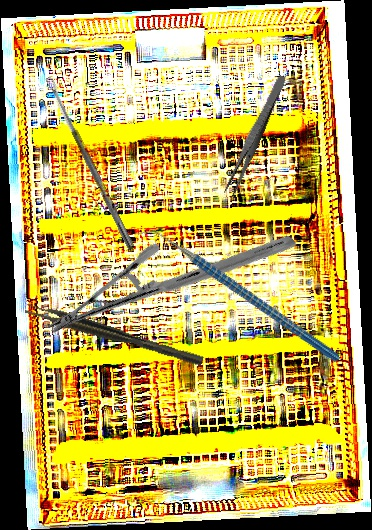Chopper: (134, 177, 341, 414)
Dressing Forceps: (222, 72, 288, 198)
Needle Holder: (46, 154, 297, 415)
Surgical Spoon: (45, 75, 136, 251)
Tissue Forceps: (24, 299, 204, 372)
